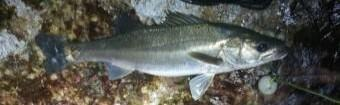fish: (34, 12, 286, 98)
